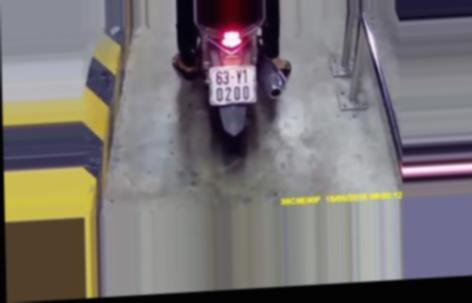License_Plate: (202, 61, 263, 108)
